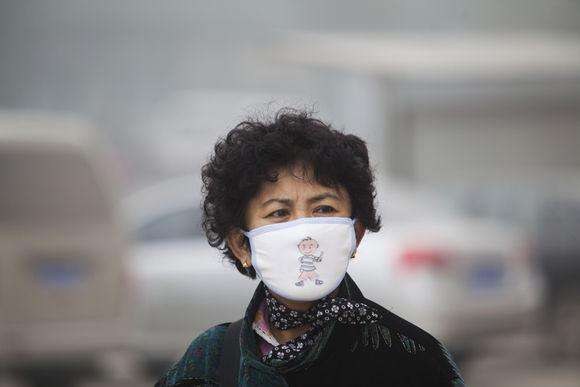OK: (248, 174, 355, 303)
